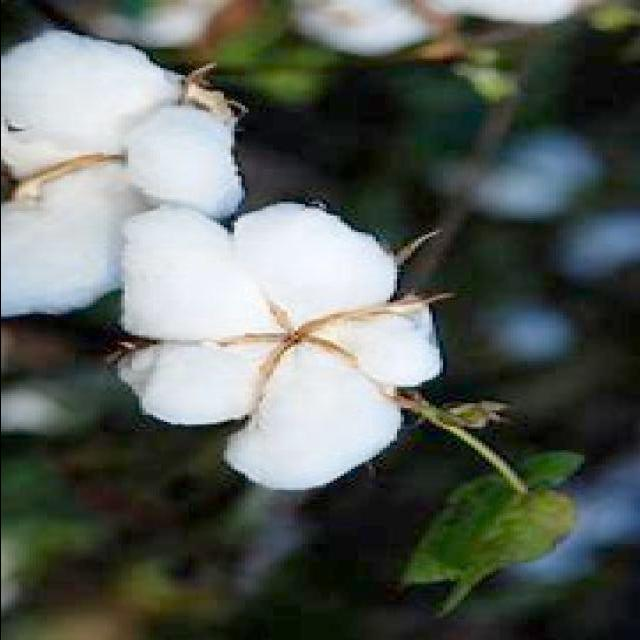Matured Cotton Boll: (110, 188, 446, 497), (0, 25, 244, 320)
